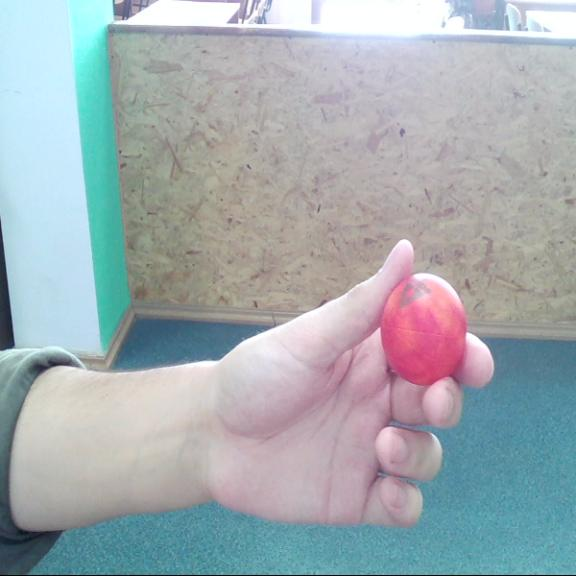ball: (381, 274, 469, 392)
